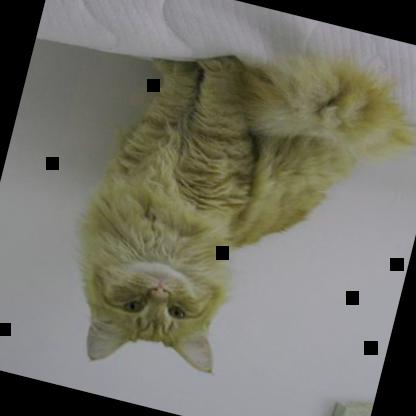cat: (53, 8, 415, 415)
